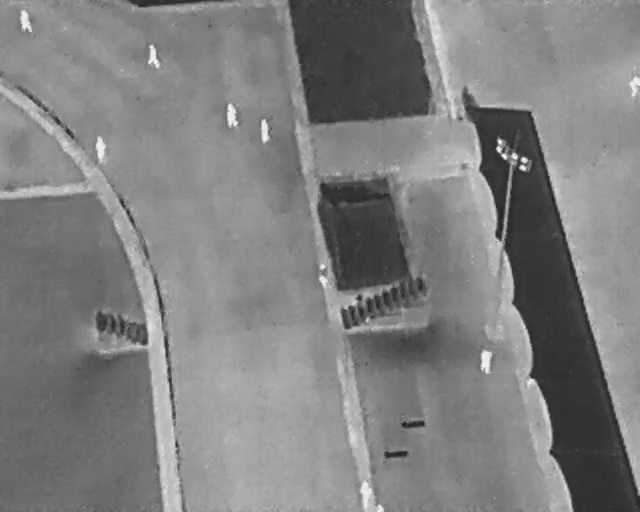Person: (92, 135, 109, 165), (18, 9, 33, 35), (224, 103, 239, 129), (359, 480, 372, 509), (146, 44, 160, 69), (627, 74, 640, 99), (480, 350, 492, 375), (259, 119, 270, 143), (318, 273, 329, 292), (375, 502, 384, 511)
